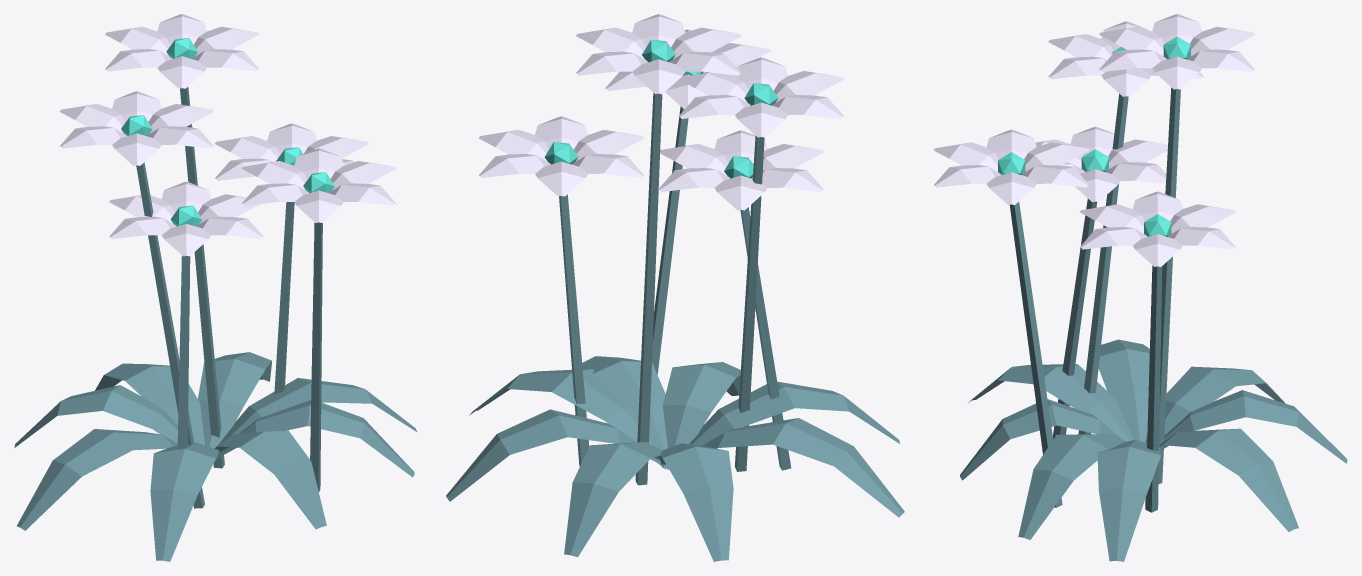
File: ET_Plant_Moonpetal.obj
3 views of the same model, side by side, from view 1: azimuth 30°, elevation 25°; view 2: azimuth 150°, elevation 25°; view 3: azimuth 270°, elevation 25° (orthographic). The views are drawn at different scales.
Visible parts, largest first — view 1: leaf_3, leaf_4, leaf_2, leaf_7, leaf_5, leaf_1, leaf_0, leaf_6, stem_4, stem_1, stem_2, stem_3 (+29 smaller); view 2: leaf_5, leaf_6, leaf_4, leaf_7, leaf_2, leaf_3, stem_4, leaf_0, stem_2, leaf_1, stem_0, stem_1 (+30 smaller); view 3: leaf_0, leaf_7, leaf_1, leaf_4, leaf_6, leaf_3, leaf_5, leaf_2, stem_1, stem_4, stem_2, stem_0 (+26 smaller).
Boxes of the visible parts, x1=… form: leaf_3: x1=150, y1=442, x2=219, y2=561; leaf_4: x1=17, y1=429, x2=177, y2=530; leaf_2: x1=215, y1=430, x2=326, y2=529; leaf_7: x1=198, y1=352, x2=271, y2=448; leaf_5: x1=14, y1=385, x2=177, y2=447; leaf_1: x1=216, y1=400, x2=414, y2=477; leaf_0: x1=215, y1=378, x2=417, y2=460; leaf_6: x1=95, y1=363, x2=204, y2=445; stem_4: x1=180, y1=86, x2=224, y2=468; stem_1: x1=310, y1=222, x2=322, y2=491; stem_2: x1=136, y1=162, x2=204, y2=508; stem_3: x1=177, y1=255, x2=190, y2=448; leaf_5: x1=659, y1=443, x2=733, y2=561; leaf_6: x1=564, y1=442, x2=662, y2=557; leaf_4: x1=667, y1=418, x2=904, y2=517; leaf_7: x1=446, y1=409, x2=667, y2=501; leaf_2: x1=663, y1=362, x2=740, y2=448; leaf_3: x1=689, y1=381, x2=899, y2=445; stem_4: x1=635, y1=93, x2=662, y2=485; leaf_0: x1=469, y1=369, x2=666, y2=469; stem_2: x1=735, y1=136, x2=764, y2=471; leaf_1: x1=582, y1=356, x2=667, y2=468; stem_0: x1=559, y1=194, x2=589, y2=466; stem_1: x1=652, y1=106, x2=688, y2=374; leaf_0: x1=1097, y1=439, x2=1161, y2=561; leaf_7: x1=1159, y1=428, x2=1298, y2=531; leaf_1: x1=1018, y1=434, x2=1125, y2=539; leaf_4: x1=1098, y1=339, x2=1149, y2=442; leaf_6: x1=1164, y1=390, x2=1347, y2=463; leaf_3: x1=968, y1=364, x2=1133, y2=441; leaf_5: x1=1145, y1=366, x2=1285, y2=442; leaf_2: x1=960, y1=399, x2=1121, y2=480; stem_1: x1=1009, y1=202, x2=1062, y2=507; stem_4: x1=1158, y1=87, x2=1180, y2=483; stem_2: x1=1078, y1=93, x2=1128, y2=434; stem_0: x1=1145, y1=265, x2=1162, y2=512.
Bounding box in the file's own units: 2.89 × 2.95 × 2.58.
